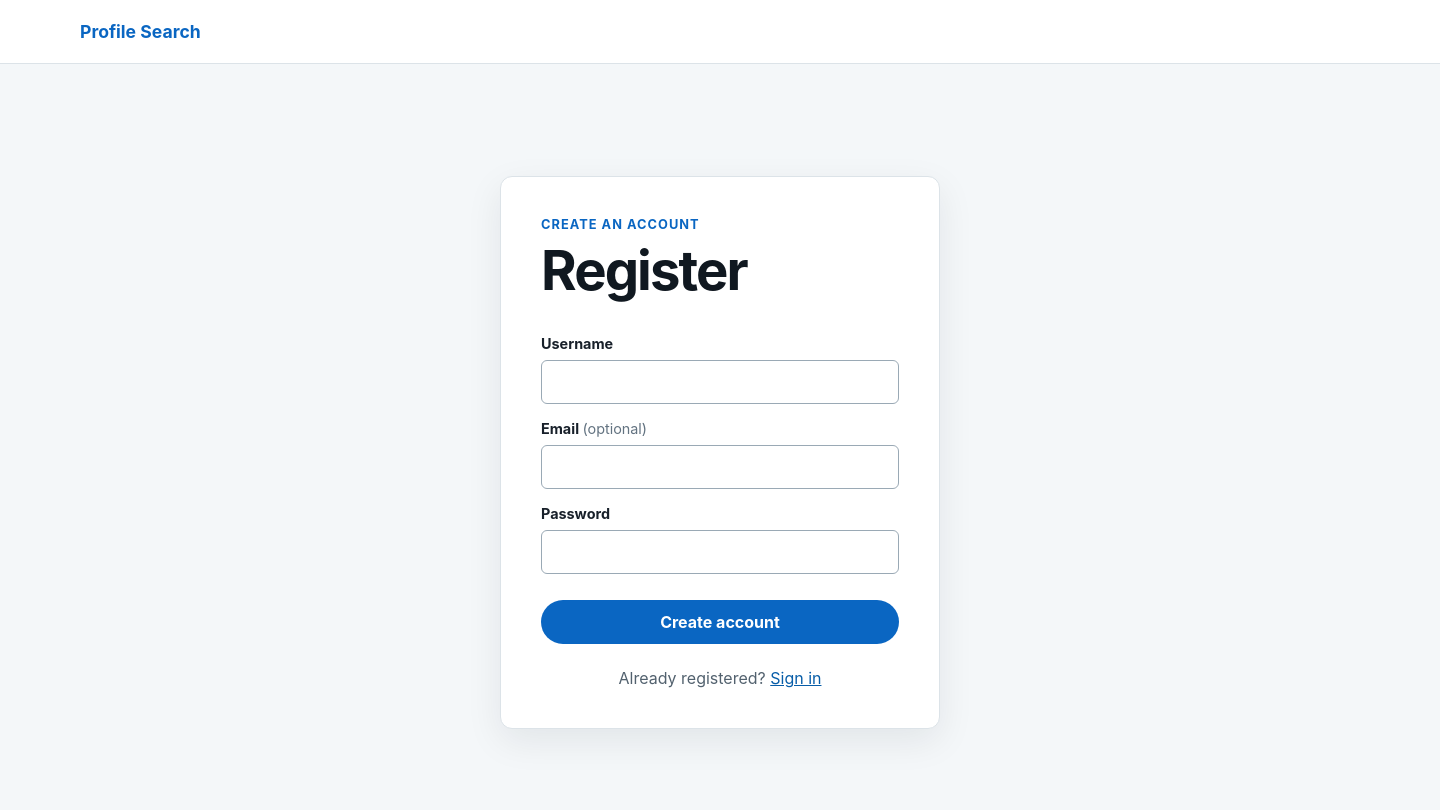
Test: a malformed registration success is reported without creating auth state
Expected: the heading "Register" is shown, [541,237,747,303]
Type "reviewer" into the field labelled "Username". click: (720, 382)
box: [541,360,899,404]
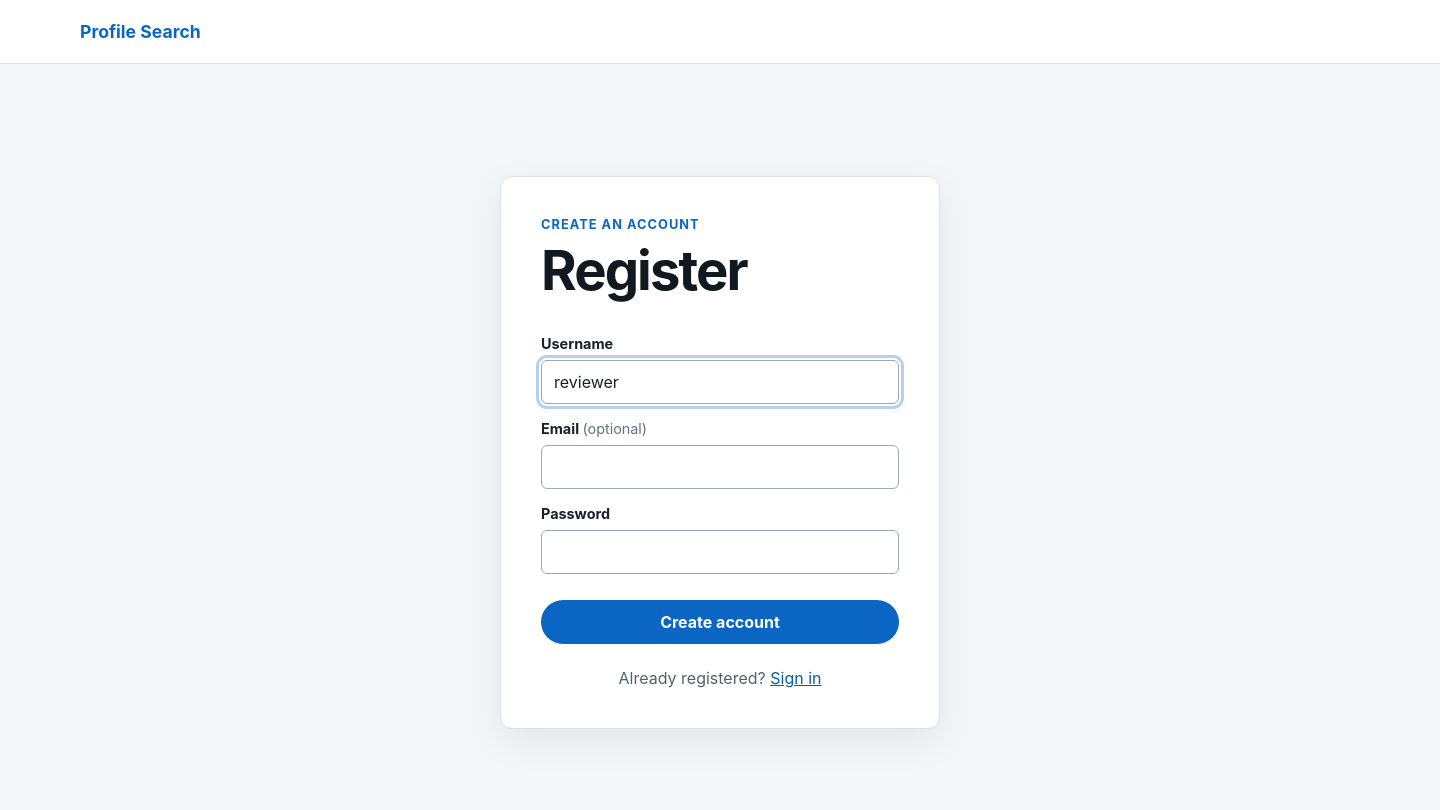
Type "strong-password" into the password field labelled "Password". click: (720, 552)
box: [541,530,899,574]
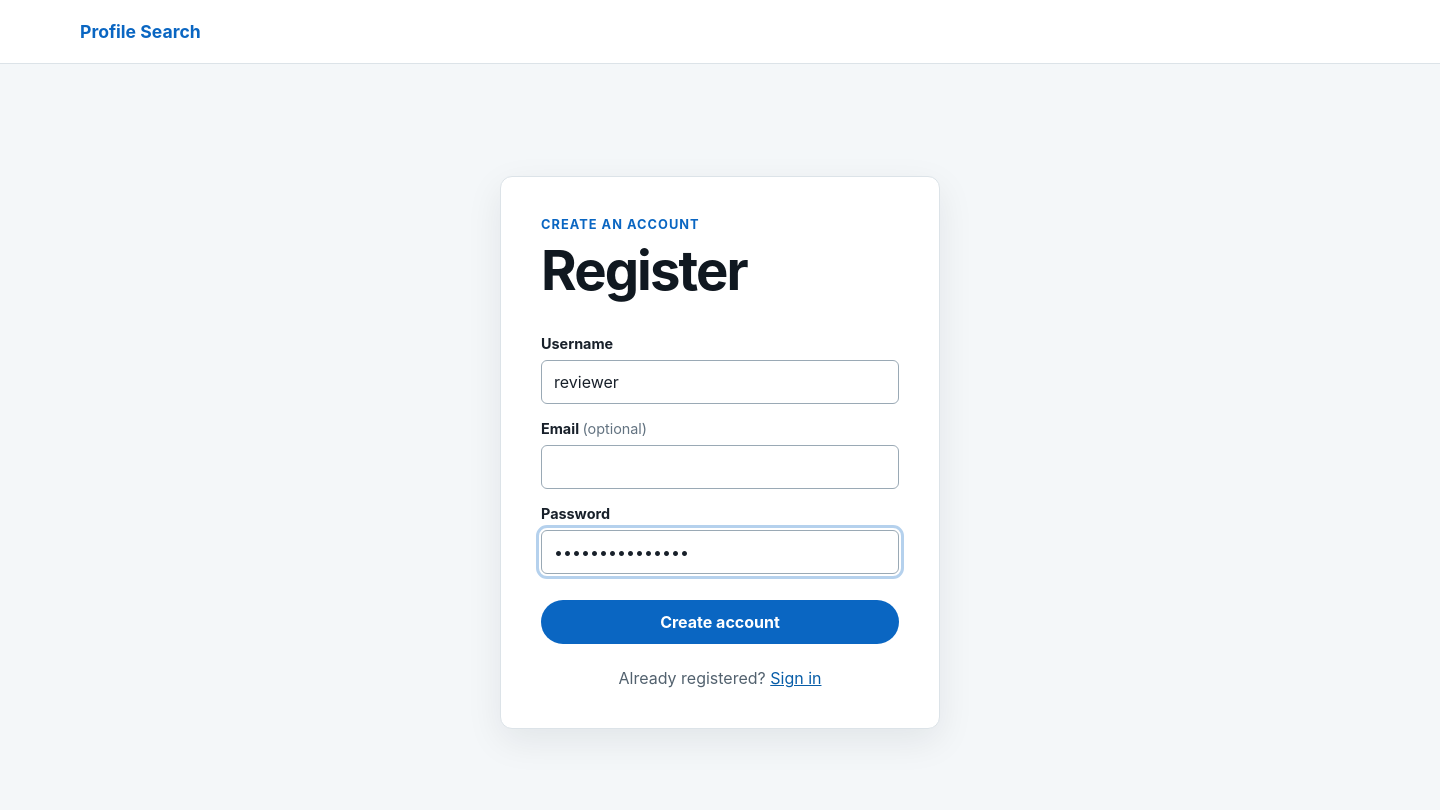
Click the button "Create account". click: click(720, 622)
box: [541,600,899,644]
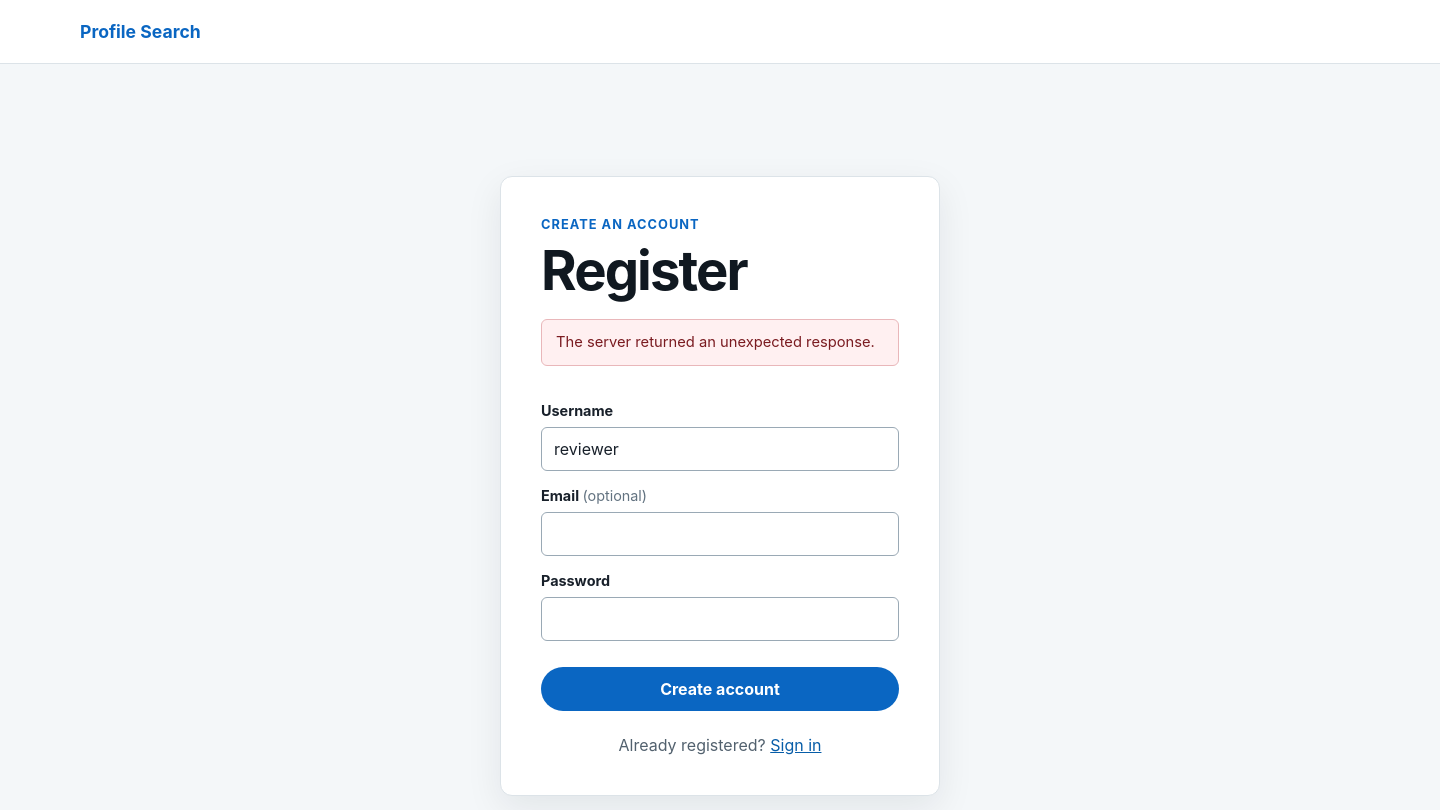
Expected: the message reads "The server returned an unexpected response.", [556,333,875,351]
